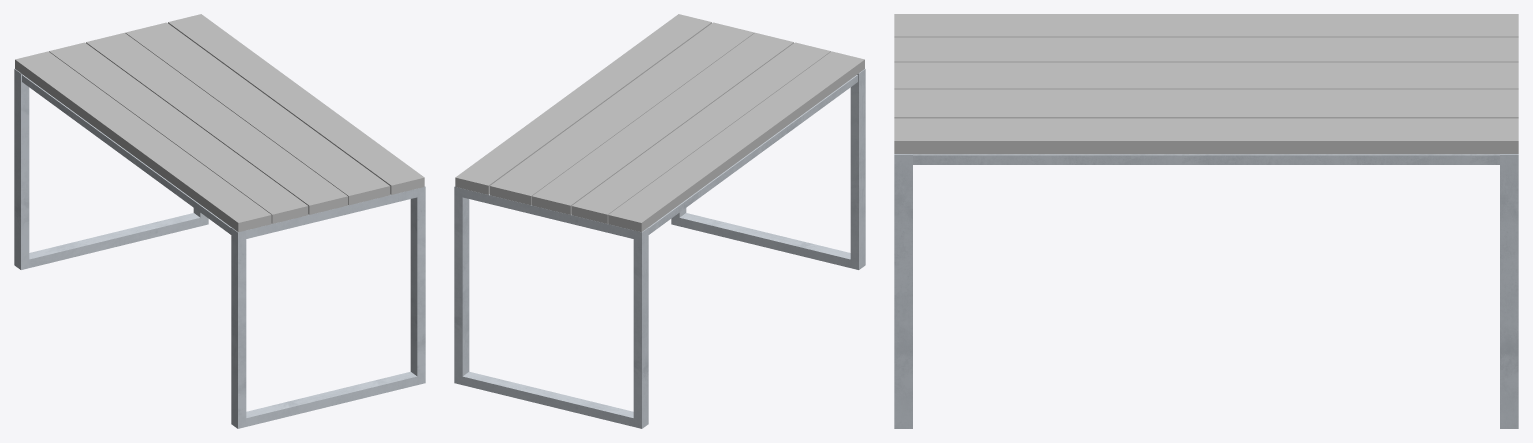
The model's file is SM_TablePlanks.fbx.
The picture shows the model from 3 angles, left to right: view 1: azimuth 30°, elevation 25°; view 2: azimuth 150°, elevation 25°; view 3: azimuth 270°, elevation 25°; orthographic projection. The views are drawn at different scales.
Parts seen in each view (by area): view 1: SM_TablePlanks_LOD0; view 2: SM_TablePlanks_LOD0; view 3: SM_TablePlanks_LOD0.
Boxes of the visible parts, x1,y1,x2,y2 form: SM_TablePlanks_LOD0: (14,14,425,428); SM_TablePlanks_LOD0: (454,14,865,428); SM_TablePlanks_LOD0: (894,14,1518,428).
Bounding box in the file's own units: 60 × 124 × 62.84.
